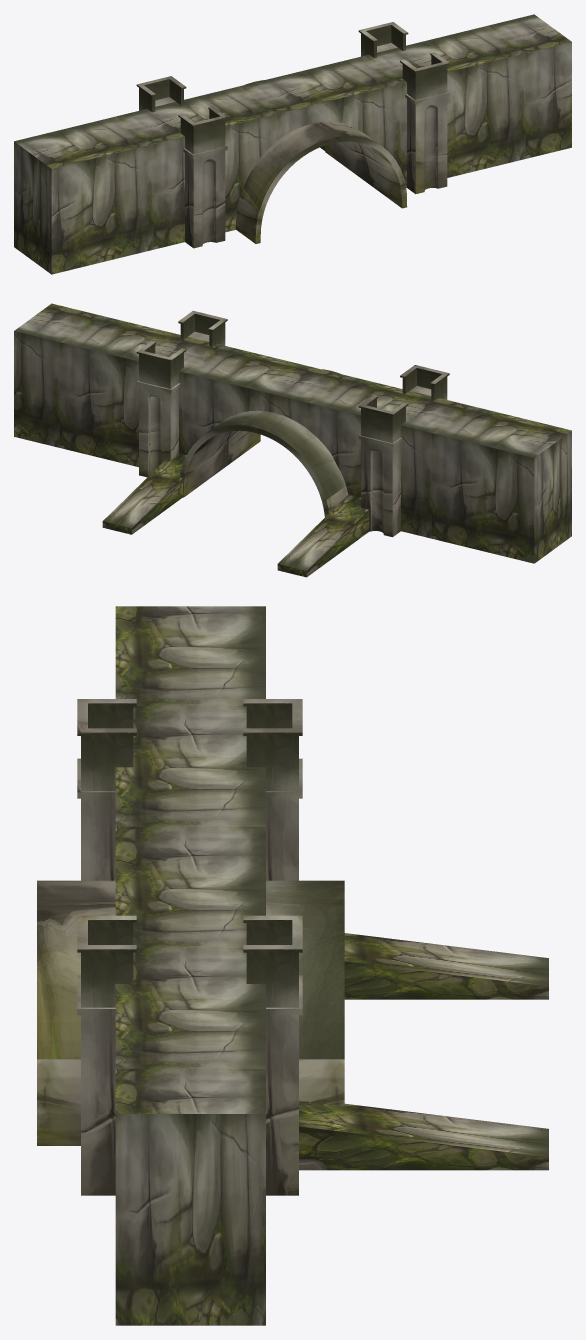
File: bridge.FBX
3 views of the same model, one above another, from view 1: azimuth 30°, elevation 25°; view 2: azimuth 150°, elevation 25°; view 3: azimuth 270°, elevation 25° (orthographic). The views are drawn at different scales.
Visible parts, largest first — view 1: Object007; view 2: Object007; view 3: Object007.
Part boxes in pixels (x1,y1,x2,y2): Object007: [14, 14, 571, 274]; Object007: [14, 303, 571, 577]; Object007: [37, 606, 548, 1325].
Bounding box in the file's own units: 3468 × 790 × 1478.
